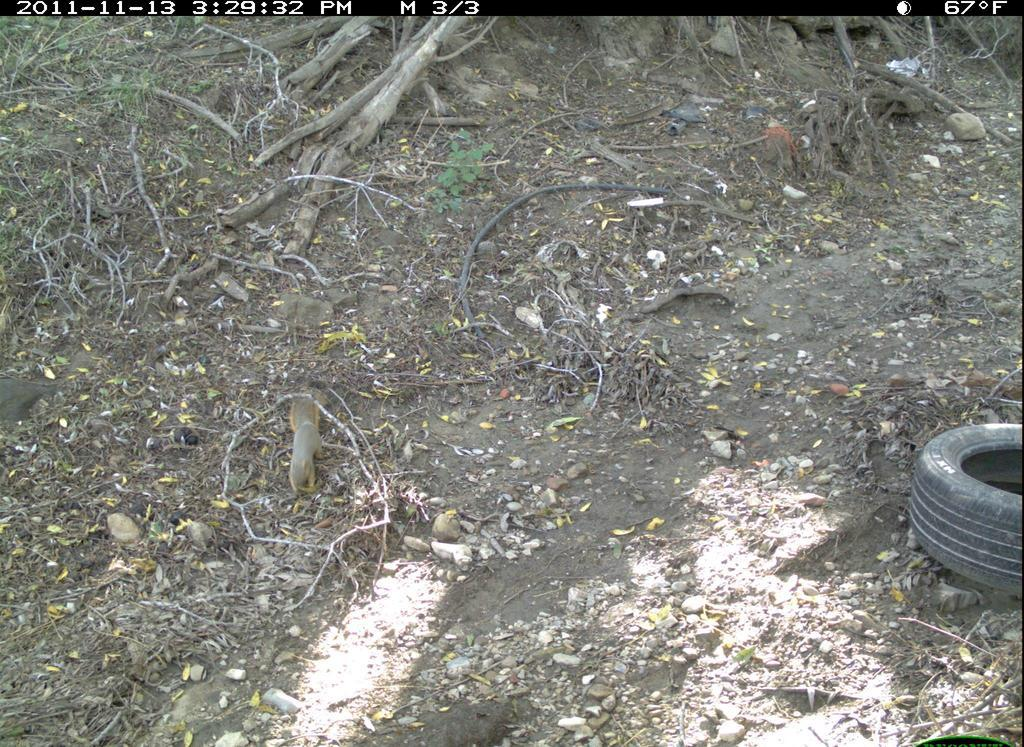squirrel: (274, 391, 337, 505)
